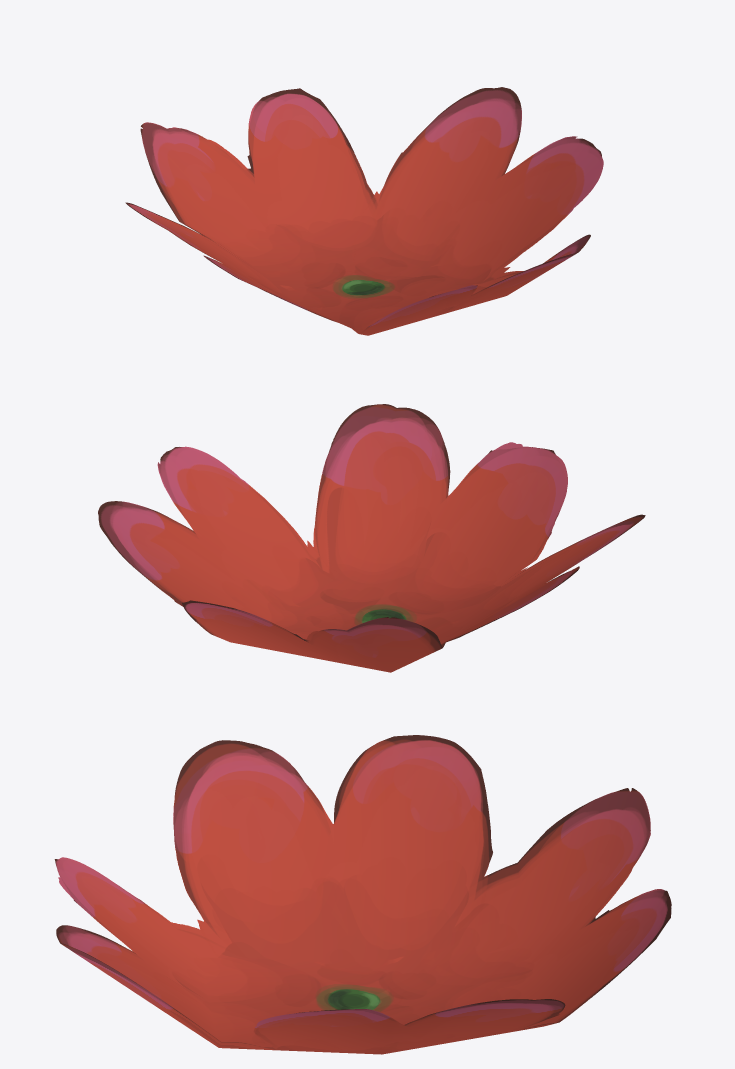
The model's file is PondFlower.fbx.
The picture shows the model from 3 angles, top to bottom: view 1: azimuth 30°, elevation 25°; view 2: azimuth 150°, elevation 25°; view 3: azimuth 270°, elevation 25°; orthographic projection. The views are drawn at different scales.
Visible parts, largest first — view 1: PondFlower; view 2: PondFlower; view 3: PondFlower.
Boxes of the visible parts, left/top/right/bottom form: PondFlower: left=125, top=87, right=603, bottom=335; PondFlower: left=98, top=404, right=645, bottom=672; PondFlower: left=54, top=735, right=671, bottom=1054.
Bounding box in the file's own units: 1.39 × 0.344 × 1.39.
Materials: 1 (1 with a texture image).
